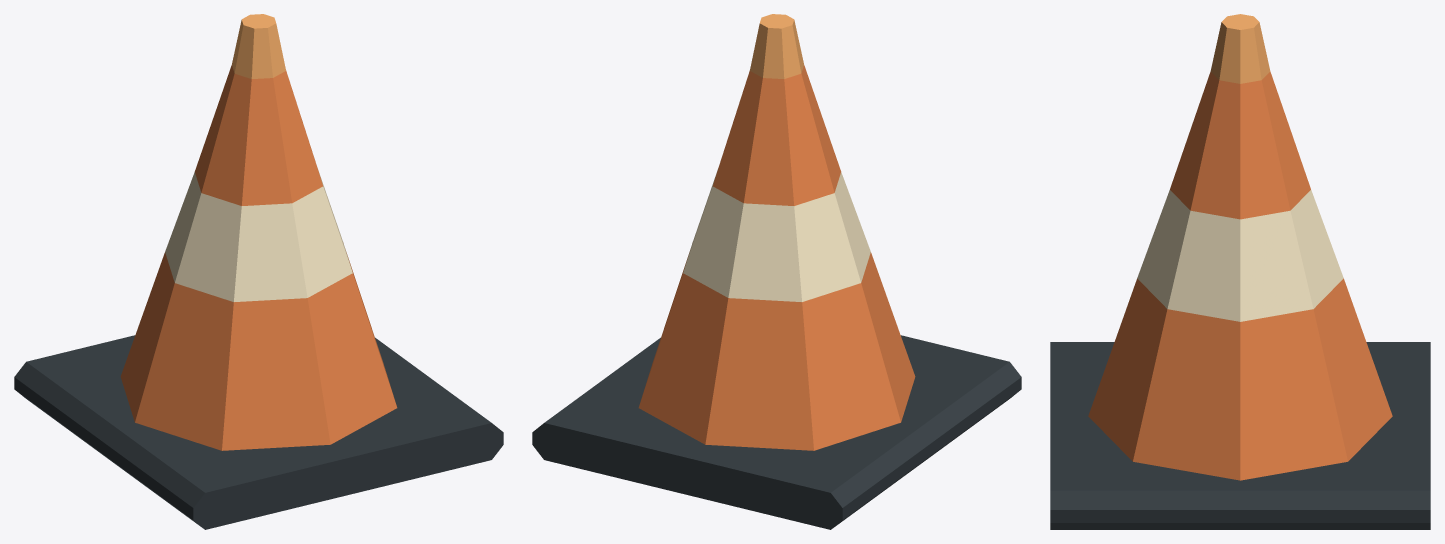
File: traffic-cone.glb
The picture shows the model from 3 angles, left to right: view 1: azimuth 30°, elevation 25°; view 2: azimuth 150°, elevation 25°; view 3: azimuth 270°, elevation 25°; orthographic projection. The views are drawn at different scales.
Visible parts, largest first — view 1: traffic-cone; view 2: traffic-cone; view 3: traffic-cone.
Part boxes in pixels (box(x1,y1,x2,y2)): traffic-cone: box(14, 14, 503, 529); traffic-cone: box(532, 14, 1021, 529); traffic-cone: box(1050, 14, 1430, 529).
Size of the model in its own units: 0.7 by 0.88 by 0.7.
Materials: 1 (1 with a texture image).
